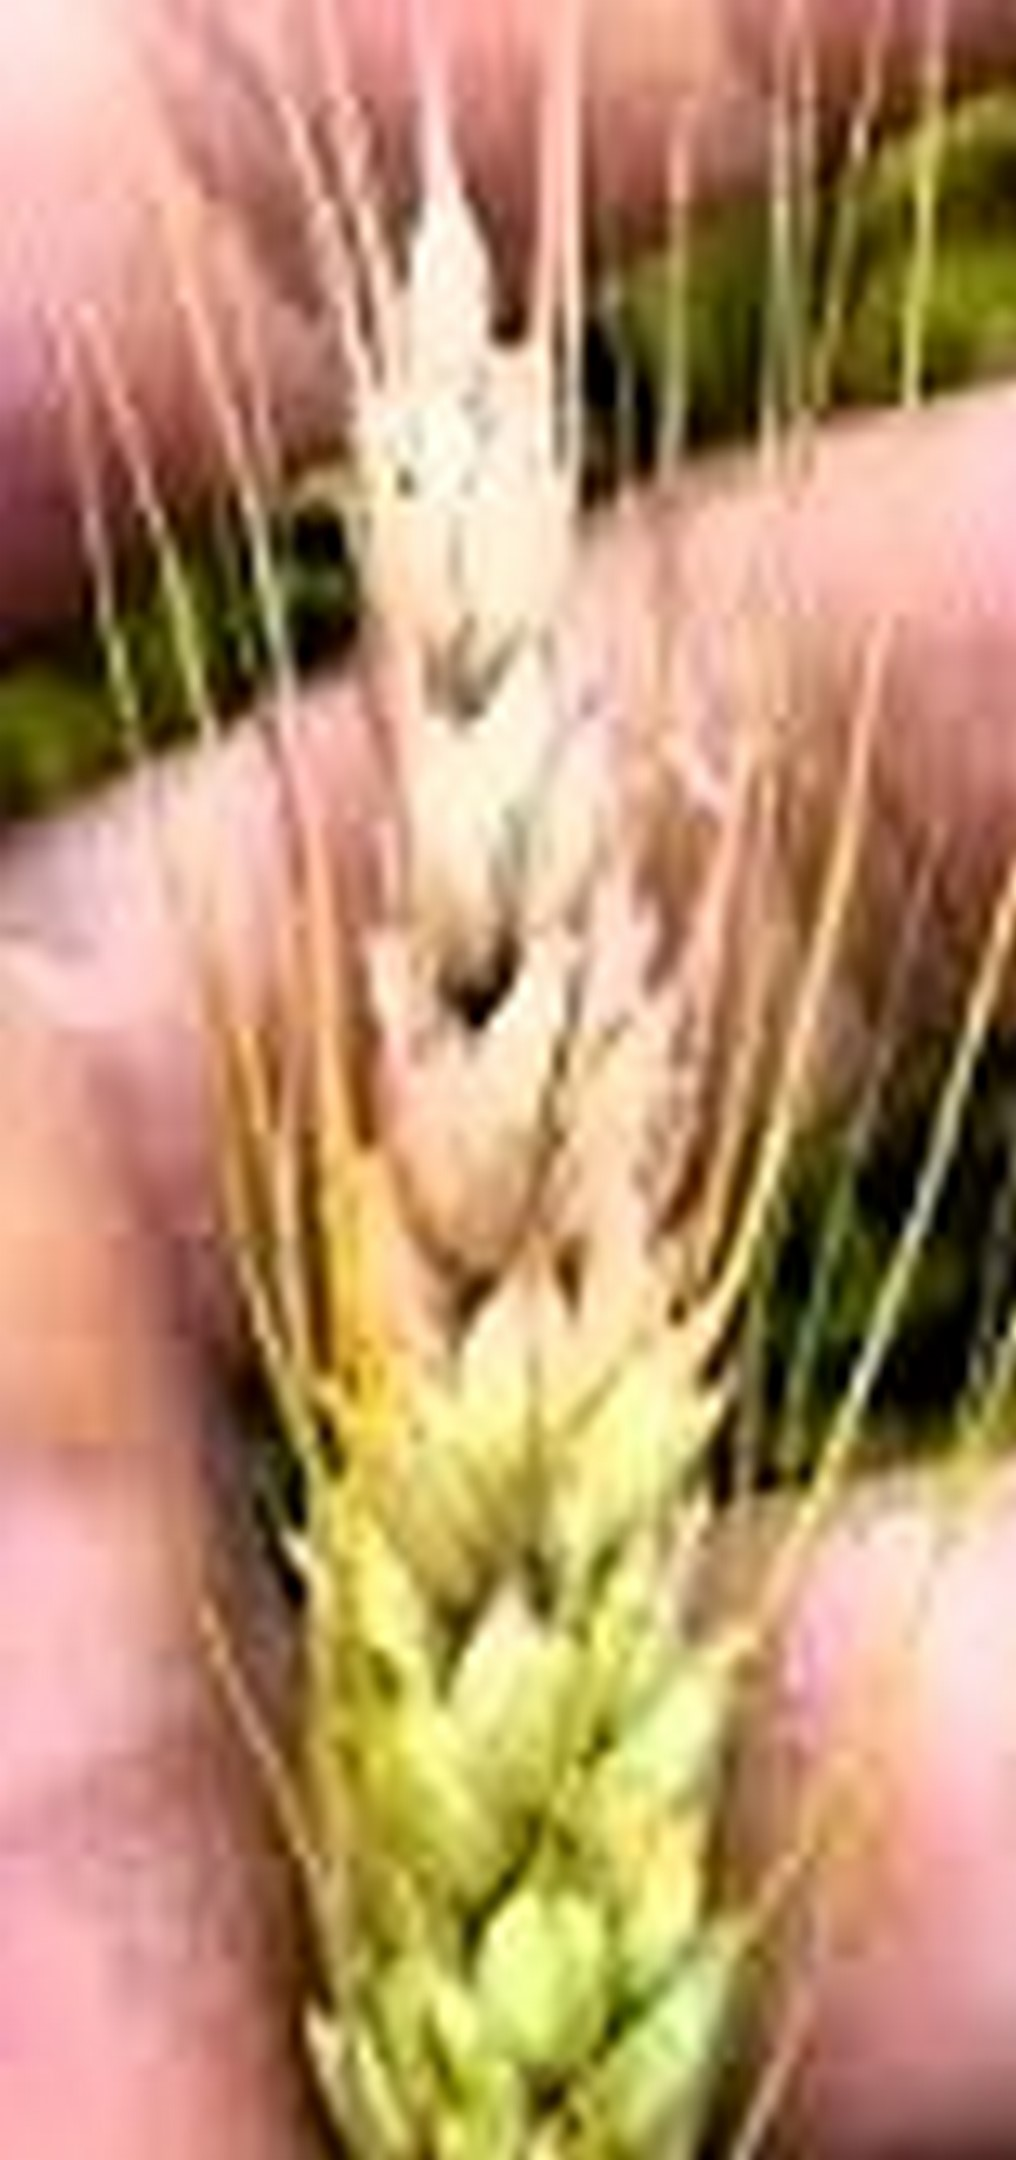Wheat scab: (253, 185, 792, 2160)
